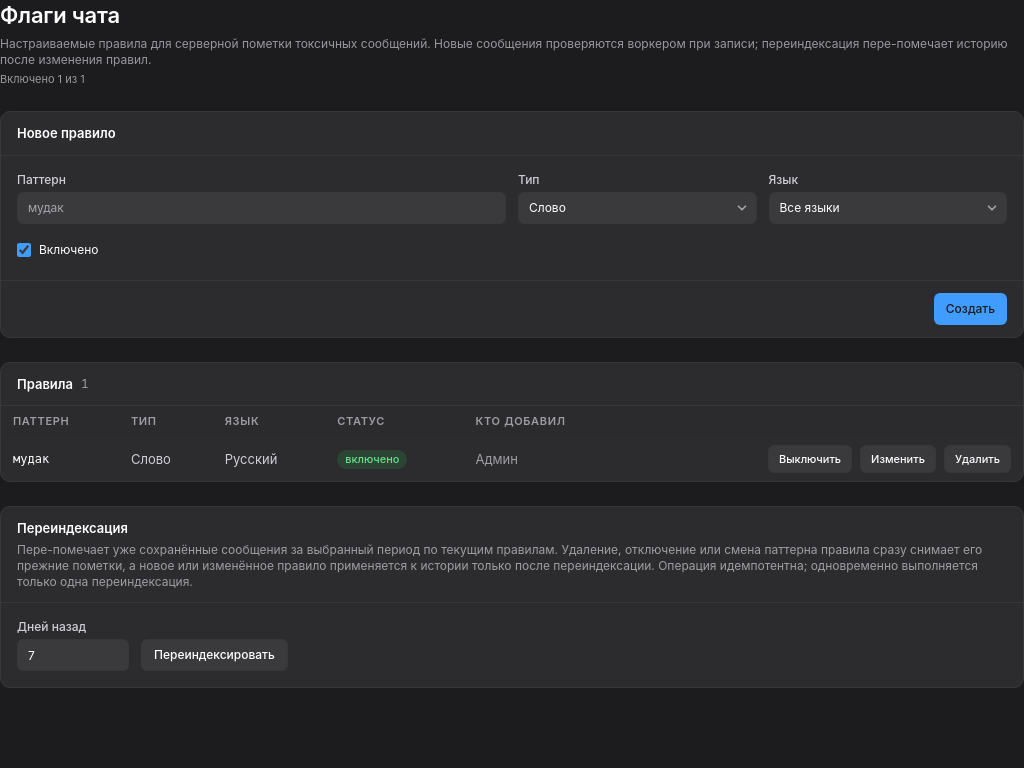
it: ChatFlagsPage › explains a 409 from reindex as a run already in progress (#345)
Expected: the text "мудак" is shown, [1,437,119,481]
What coordinates should you click on to do the following:
click the button "Переиндексировать"
I would click on:
 (214, 655)
Its box is [141,639,288,671].
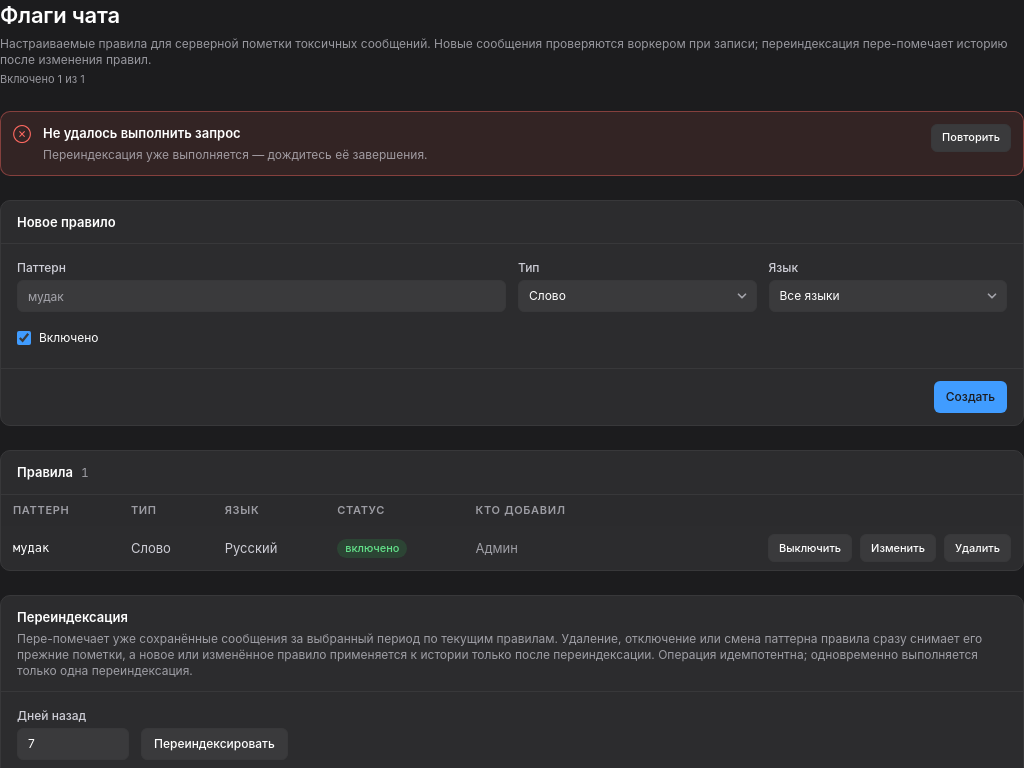
Expected: the text "Переиндексация уже выполняется — дождитесь её завершения." is shown, [43,147,428,162]
